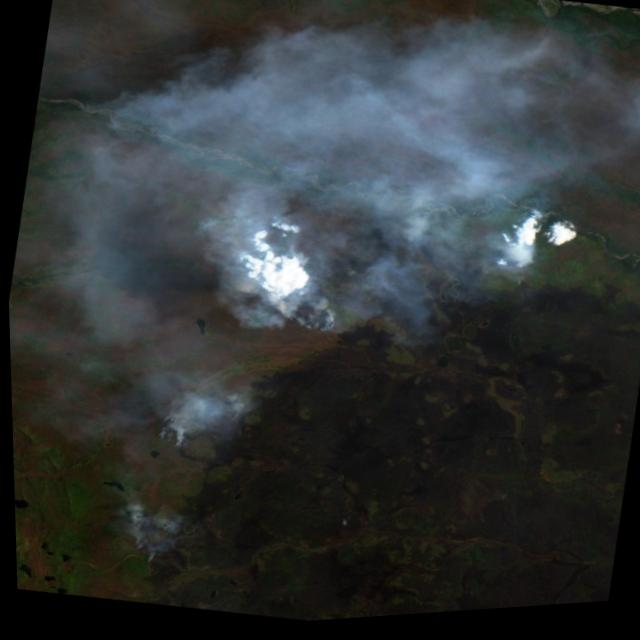fire: (227, 238, 380, 353), (140, 385, 243, 476), (101, 488, 199, 581), (479, 211, 565, 304), (392, 218, 457, 273)
